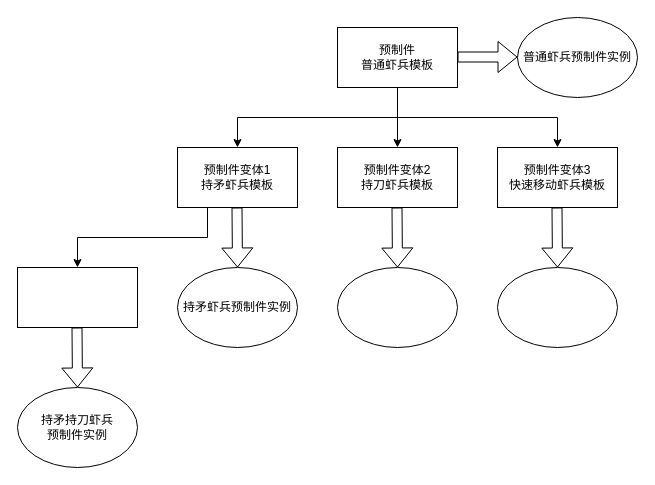
Some shapes in this 655 by 485 pixel diagram are drawn without their labels. Here are the shapes that lost their labels. From the top down, the box of each, then its label:
(16, 266, 138, 328): 预制件变体4 持矛持刀虾兵模板
(336, 266, 458, 348): 持刀虾兵预制件实例
(496, 266, 618, 348): 快速移动虾兵 预制件实例
